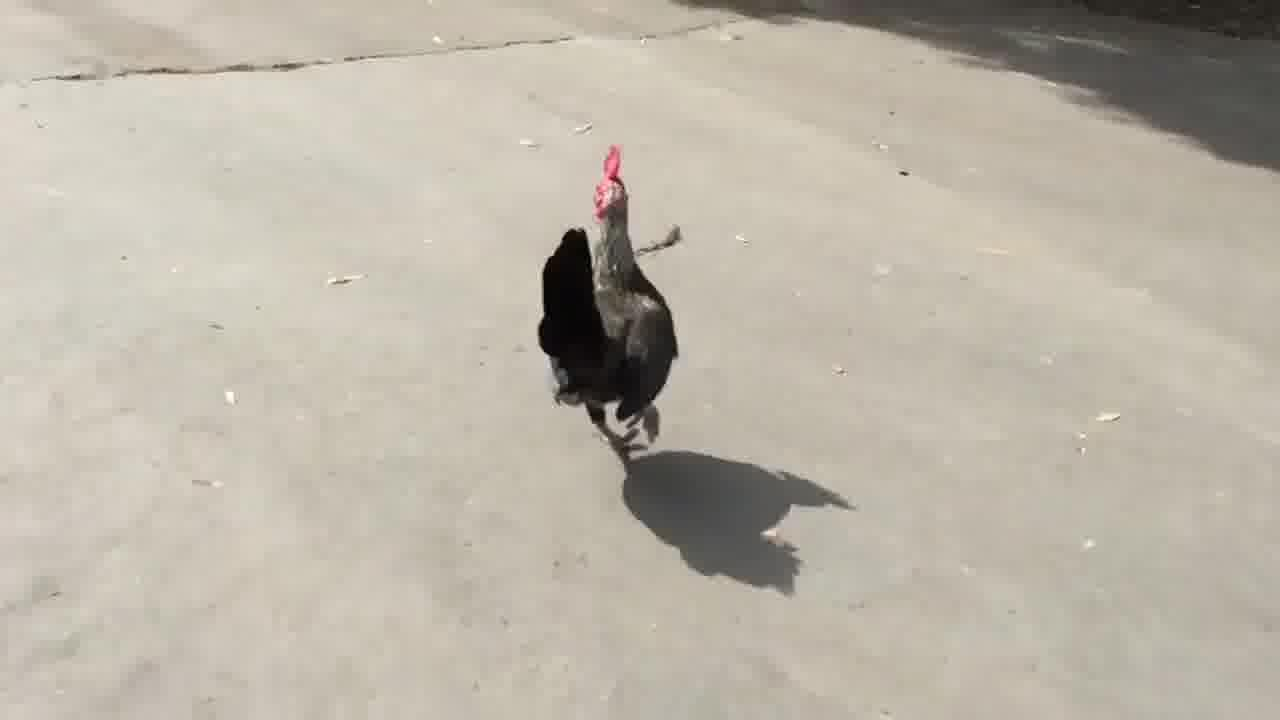Normal: (522, 146, 706, 448)
